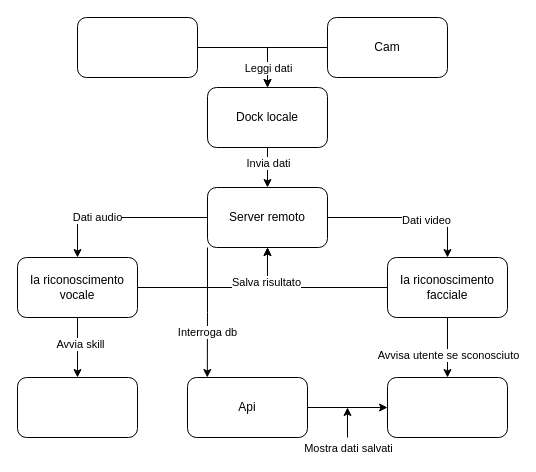
Some shapes in this 536 by 472 pixel diagram are drawn without their labels. Here are the shapes that lost their labels. From the top down, the box of each, then its label:
(76, 16, 198, 78): Mocrofoni
(16, 376, 138, 438): Alexa
(386, 376, 508, 438): App
